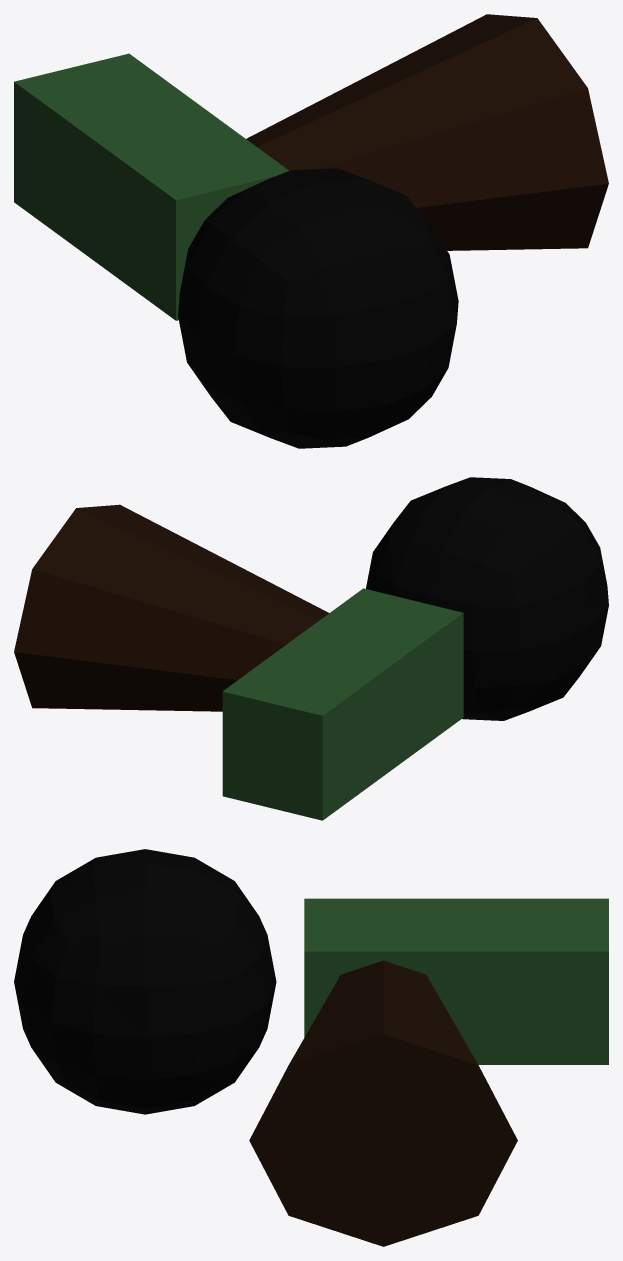
The model's file is infantery.obj.
3 renders of one model, top to bottom at view 1: azimuth 30°, elevation 25°; view 2: azimuth 150°, elevation 25°; view 3: azimuth 270°, elevation 25°, orthographic. The views are drawn at different scales.
Visible parts, largest first — view 1: head, gun, body; view 2: gun, body, head; view 3: head, gun, body.
Part boxes in pixels (x1,y1,x2,y2): head: (178, 168, 458, 448); gun: (246, 14, 608, 250); body: (14, 53, 288, 320); gun: (14, 504, 329, 711); body: (222, 588, 463, 820); head: (366, 477, 608, 720); head: (14, 849, 276, 1114); gun: (249, 960, 517, 1246); body: (304, 898, 608, 1064).
Size of the model in its own units: 1.62 by 0.8395 by 1.9.
